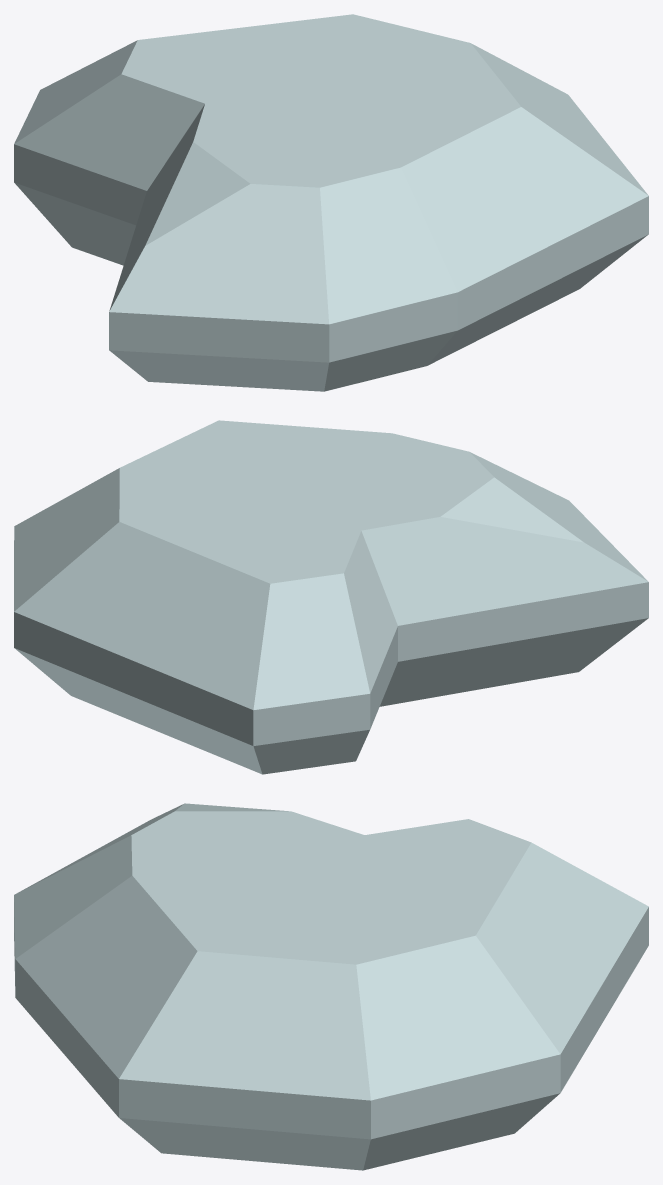
File: VolcanoStone.glb
3 views of the same model, one above another, from view 1: azimuth 30°, elevation 25°; view 2: azimuth 150°, elevation 25°; view 3: azimuth 270°, elevation 25° (orthographic). The views are drawn at different scales.
Parts seen in each view (by area): view 1: stone_largeC; view 2: stone_largeC; view 3: stone_largeC.
Part boxes in pixels (left/top/right/bottom): stone_largeC: left=14, top=14, right=648, bottom=391; stone_largeC: left=14, top=420, right=648, bottom=774; stone_largeC: left=14, top=803, right=648, bottom=1170.
Bounding box in the file's own units: 1.06 × 0.3211 × 1.02.
